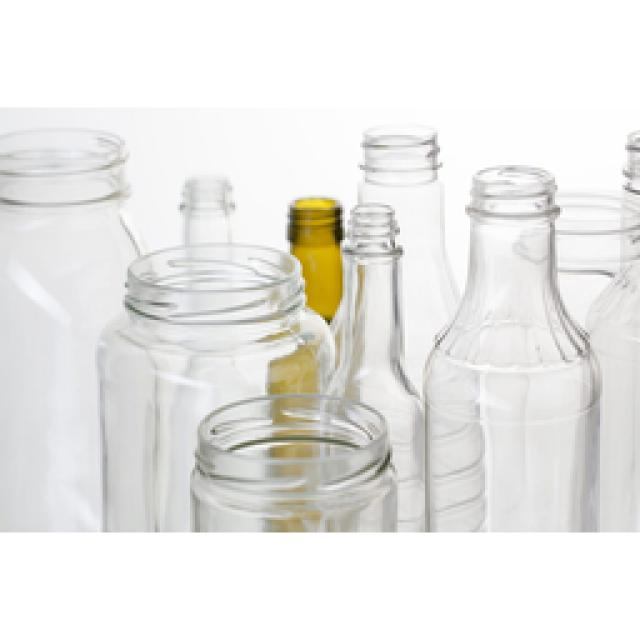glass: (0, 130, 638, 528)
